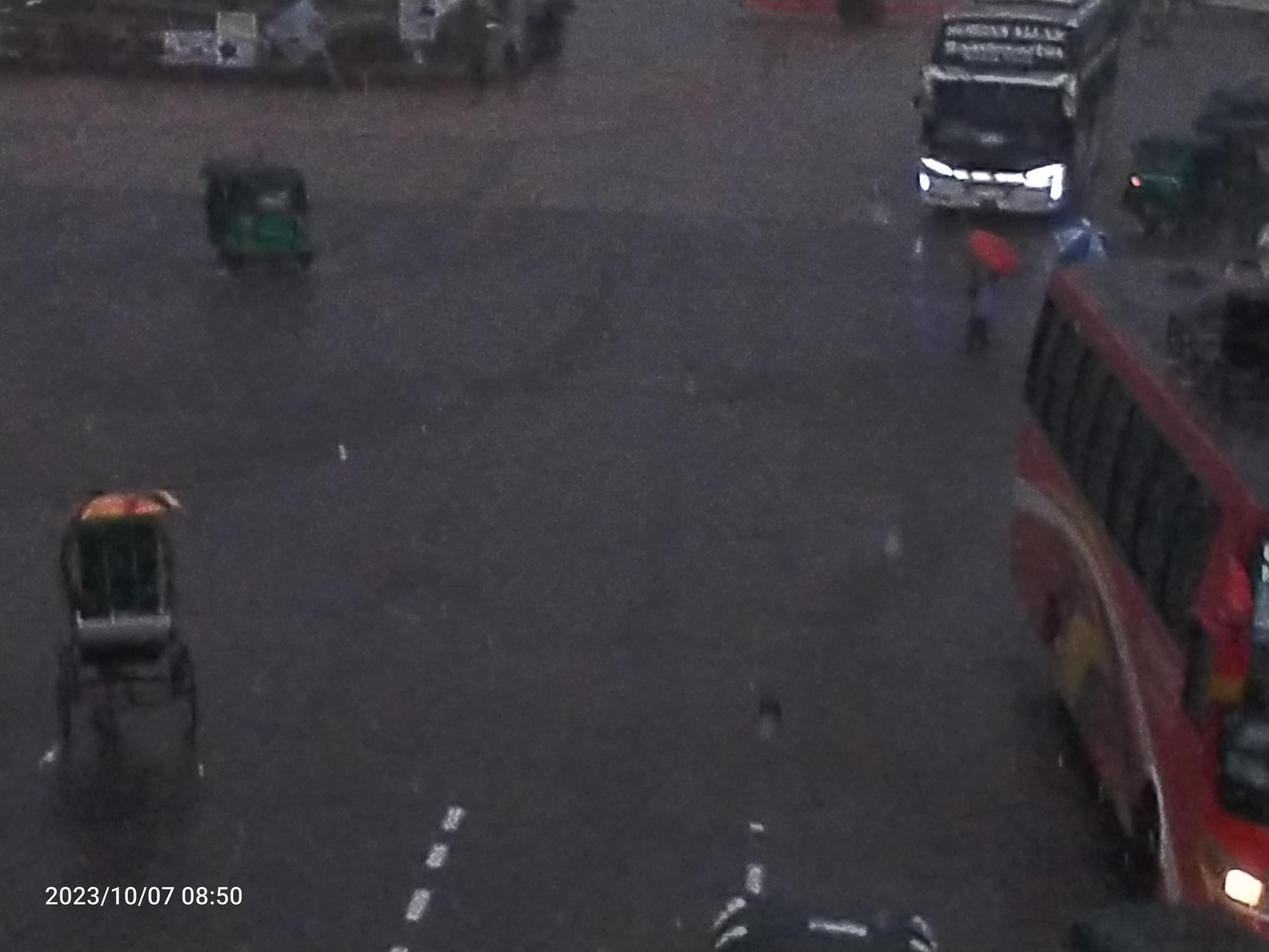Bus: (952, 217, 1269, 952), (864, 0, 1168, 254)
Car: (0, 459, 246, 789)
